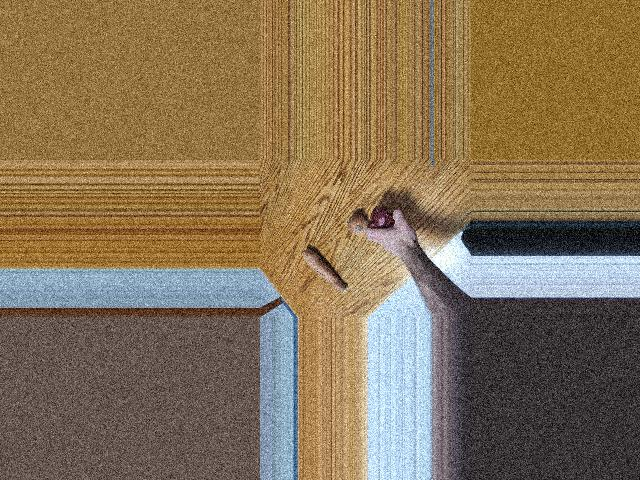onion: (348, 215, 372, 240)
